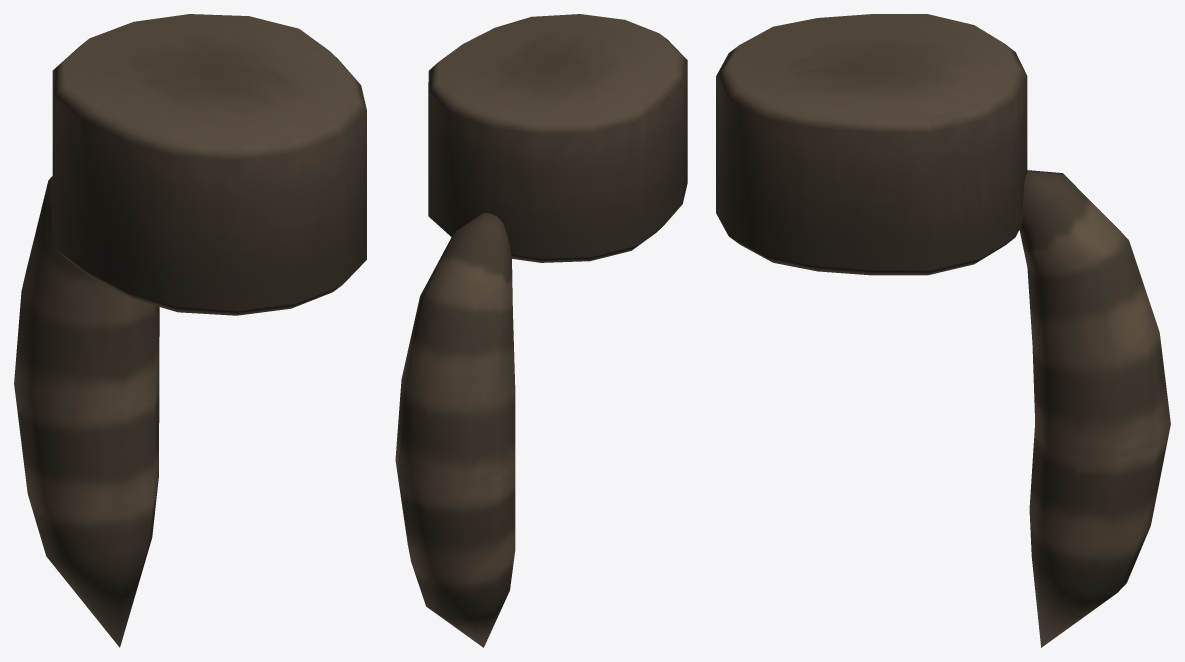
The model's file is mod_char_hero_gramps_hat.fbx.
3 renders of one model, left to right at view 1: azimuth 30°, elevation 25°; view 2: azimuth 150°, elevation 25°; view 3: azimuth 270°, elevation 25°, orthographic. The views are drawn at different scales.
Visible parts, largest first — view 1: mod_char_hero_gramps_hat; view 2: mod_char_hero_gramps_hat; view 3: mod_char_hero_gramps_hat.
Part boxes in pixels (x1=…): mod_char_hero_gramps_hat: x1=14, y1=14, x2=366, y2=647; mod_char_hero_gramps_hat: x1=395, y1=14, x2=687, y2=647; mod_char_hero_gramps_hat: x1=716, y1=14, x2=1170, y2=647.
Bounding box in the file's own units: 29.39 × 70.68 × 50.09.
